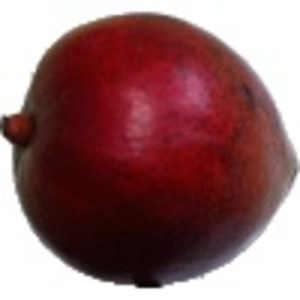manga: (1, 12, 300, 288)
